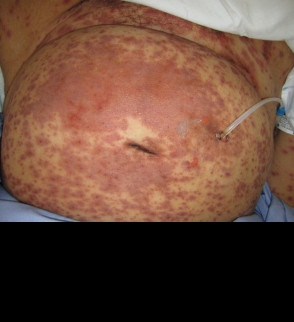SJS-TEN: (0, 0, 294, 275)
